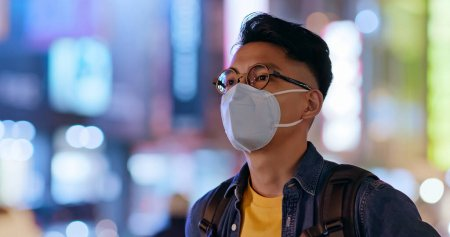with_mask: (206, 24, 330, 163)
